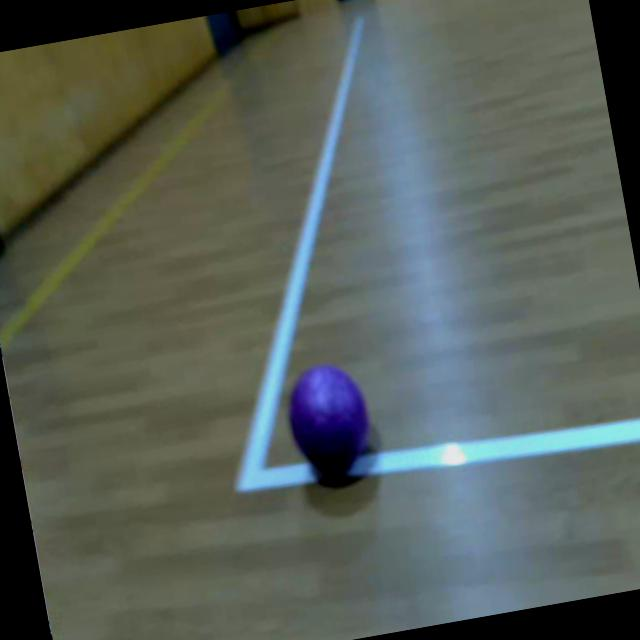purple_ball: (280, 358, 376, 476)
